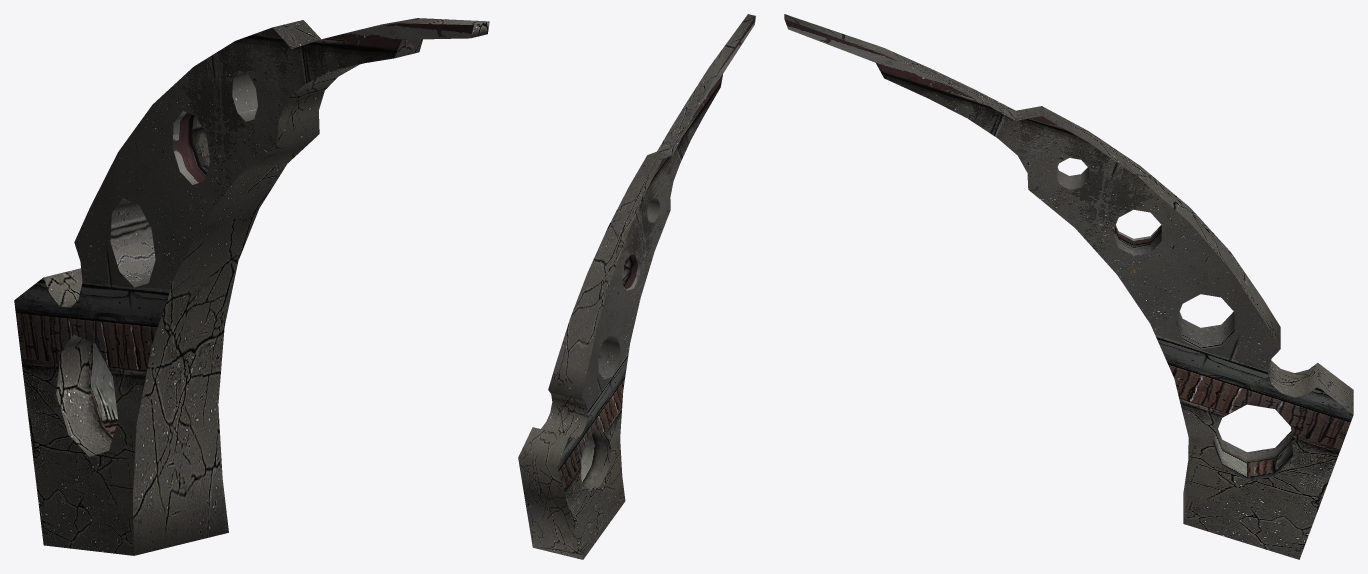
Rendered from ComShipBrace.FBX.
3 views of the same model, side by side, from view 1: azimuth 30°, elevation 25°; view 2: azimuth 150°, elevation 25°; view 3: azimuth 270°, elevation 25° (orthographic). The views are drawn at different scales.
Parts seen in each view (by area): view 1: ComShipRibBrace; view 2: ComShipRibBrace; view 3: ComShipRibBrace.
Boxes of the visible parts, x1,y1,x2,y2 form: ComShipRibBrace: (14,18,489,555); ComShipRibBrace: (518,14,755,559); ComShipRibBrace: (784,14,1353,559).
Bounding box in the file's own units: 128 × 961 × 941.
